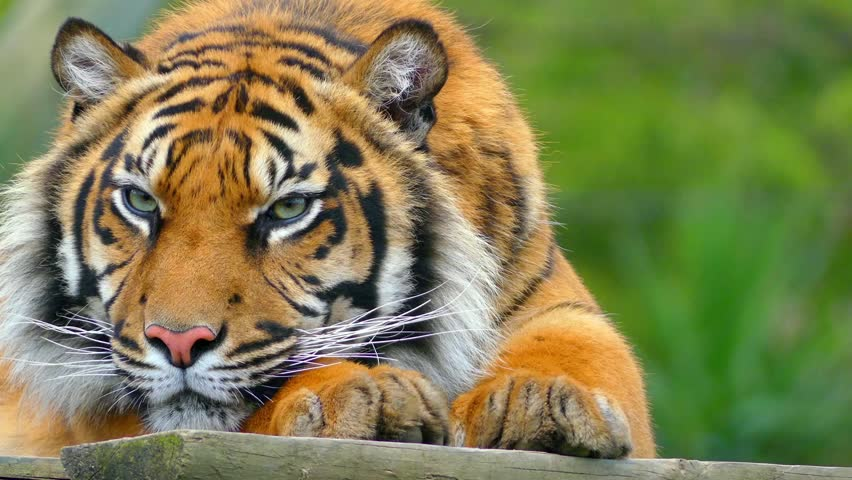Tiger: (1, 5, 671, 480)
